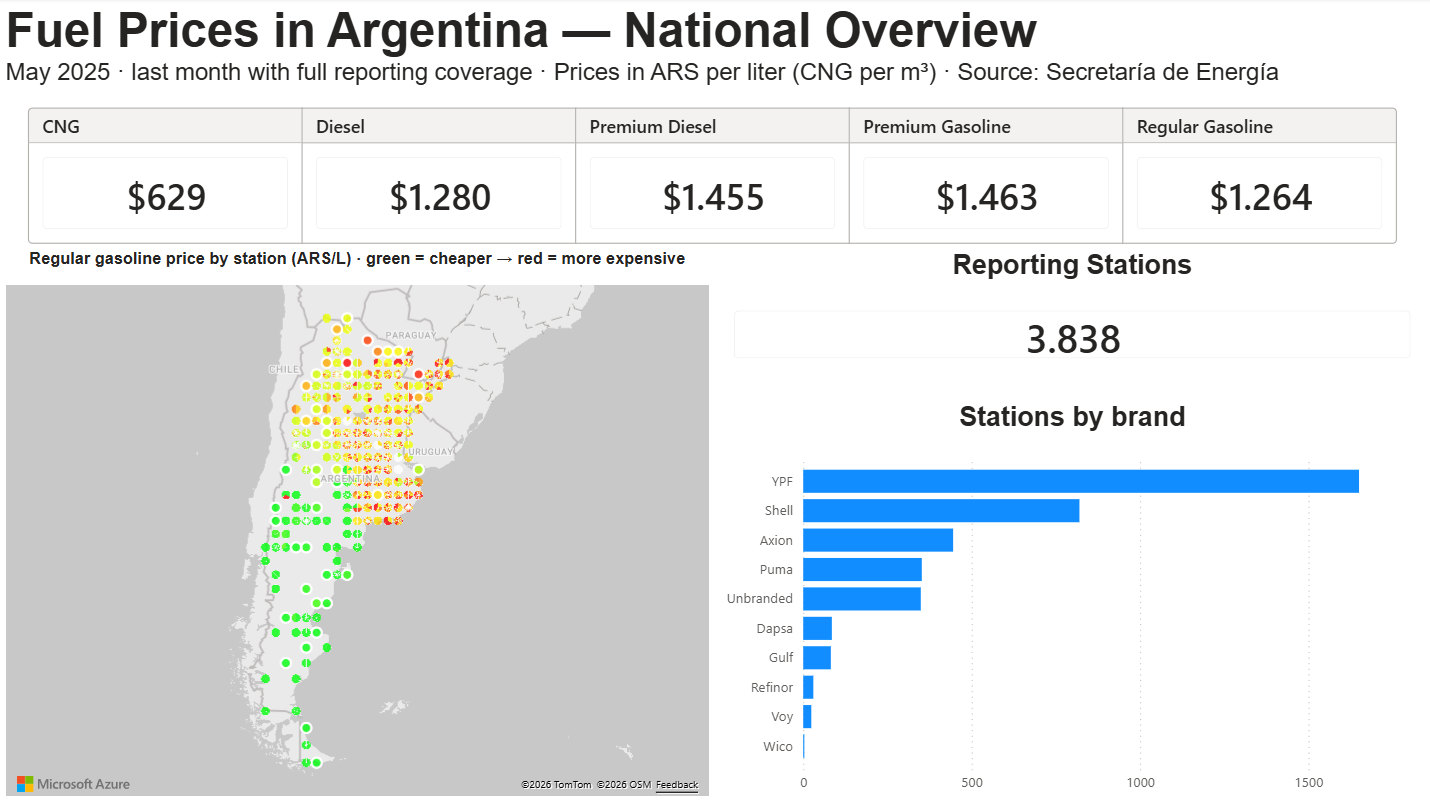

Layout of this report page (visuals, bound fields, positions):
{"tool":"powerbi","page":{"name":"Overview","canvas":[1280,720],"ordinal":0},"visuals":[{"type":"cardVisual","fields":{"Data":["current_prices.Median Price Label"],"Rows":["monthly_prices.product"]},"box":[0,92.8,1280,132.3],"z":0},{"type":"cardVisual","title":"Reporting Stations","fields":{"Data":["current_prices.Reporting Stations Label"]},"box":[640,224.8,640,115.4],"z":1000},{"type":"azureMap","title":"Regular gasoline price by station (ARS/L) · green = cheaper → red = more expensive","fields":{"Series":["monthly_prices.station_id"],"X":["stations.longitude"],"Y":["stations.latitude"]},"box":[0,224.8,640,494.9],"z":2000},{"type":"clusteredBarChart","title":"Stations by brand","fields":{"Category":["stations.brand"],"Y":["monthly_prices.Reporting Stations"]},"box":[640,360.9,640,359.3],"z":3000},{"type":"textbox","box":[0,0,1280,92.8],"z":4000}]}

Visuals, with their boxes in screenshot pixels (x1, y1, x2, y2), scaled from the page's 1280x720 canvas onto the 1430x802 screenshot:
cardVisual - current_prices.Median Price Label x monthly_prices.product: {"x1": 0, "y1": 103, "x2": 1429, "y2": 251}
"Reporting Stations" cardVisual: {"x1": 715, "y1": 250, "x2": 1429, "y2": 379}
"Regular gasoline price by station (ARS/L) · green = cheaper → red = more expensive" azureMap: {"x1": 0, "y1": 250, "x2": 715, "y2": 801}
"Stations by brand" clusteredBarChart: {"x1": 715, "y1": 402, "x2": 1429, "y2": 801}
textbox: {"x1": 0, "y1": 0, "x2": 1429, "y2": 103}
